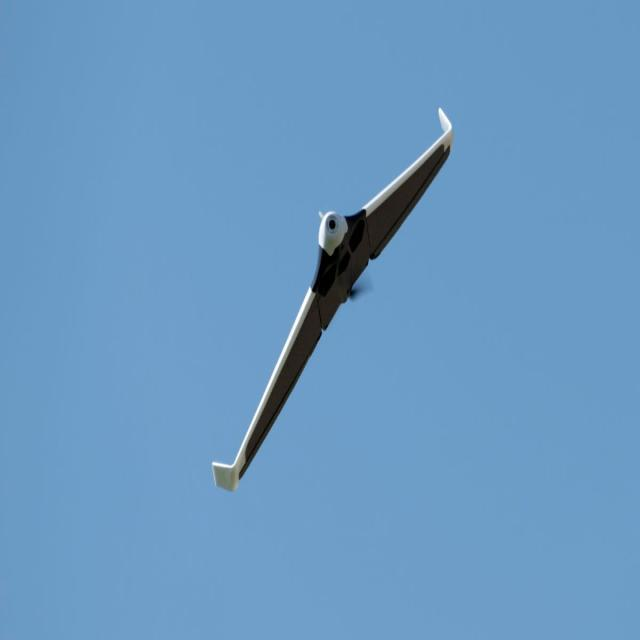iha: (200, 104, 448, 492)
